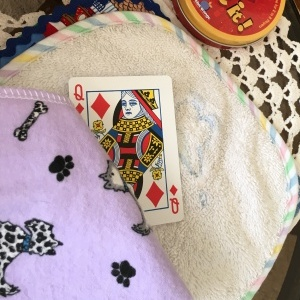card: (66, 73, 187, 227)
